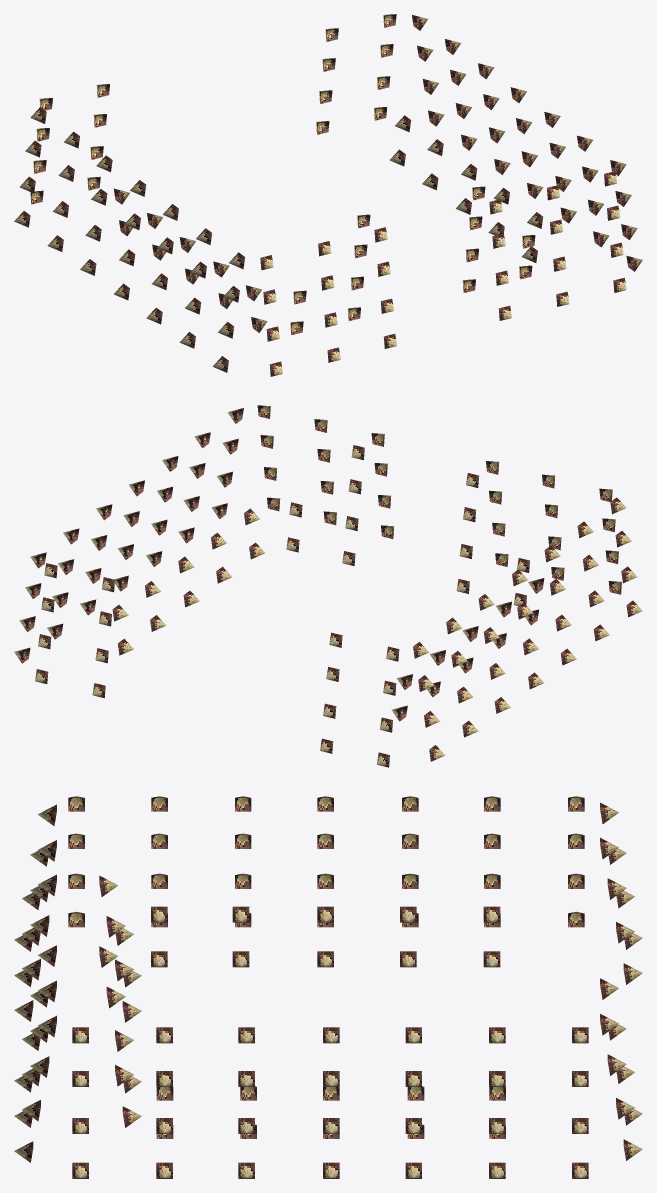
File: celt_fortress_studs.dae
3 views of the same model, one above another, from view 1: azimuth 30°, elevation 25°; view 2: azimuth 150°, elevation 25°; view 3: azimuth 270°, elevation 25° (orthographic). The views are drawn at different scales.
Visible parts, largest first — view 1: gallic_stumps-Pivot; view 2: gallic_stumps-Pivot; view 3: gallic_stumps-Pivot.
Boxes of the visible parts, left/top/right/bottom form: gallic_stumps-Pivot: left=14, top=14, right=642, bottom=376; gallic_stumps-Pivot: left=14, top=405, right=642, bottom=767; gallic_stumps-Pivot: left=14, top=796, right=642, bottom=1178.
Bounding box in the file's own units: 20.69 × 20.7 × 5.1.
